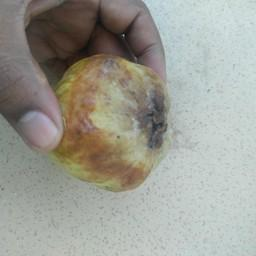Bad_guava: (48, 48, 175, 198)
